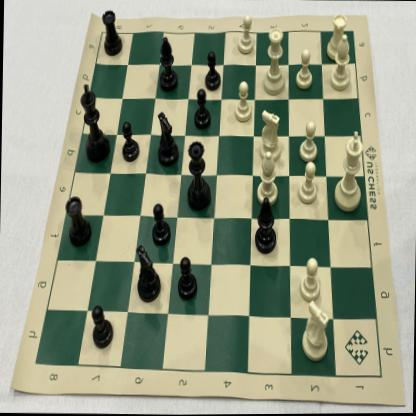black-bishop: (133, 241, 162, 307), (250, 195, 280, 255), (154, 32, 182, 96), (154, 109, 180, 168)
black-king: (78, 78, 113, 166)
black-pawn: (148, 201, 174, 250), (174, 254, 200, 303), (90, 300, 114, 351), (119, 118, 141, 165), (202, 50, 225, 93), (192, 86, 212, 132)
black-queen: (184, 138, 212, 214)
black-rook: (62, 191, 94, 249), (100, 6, 124, 59)
white-bishop: (327, 34, 353, 93), (255, 150, 279, 207)
white-king: (328, 128, 366, 216)
white-knight: (297, 301, 331, 364), (257, 107, 283, 164)
white-pawn: (298, 255, 322, 305), (296, 159, 319, 207), (296, 117, 318, 165), (293, 47, 315, 93), (233, 79, 254, 126), (236, 12, 254, 59)
white-queen: (259, 23, 288, 99)
white-rook: (324, 10, 349, 62)
